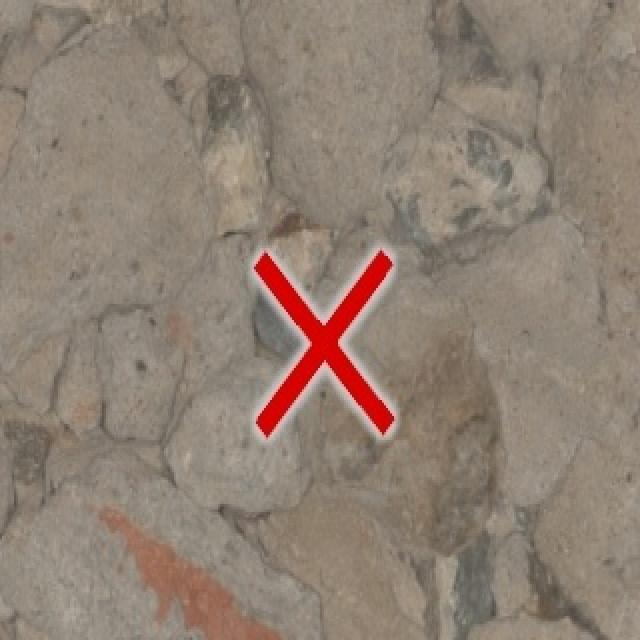x_marker: (253, 249, 393, 436)
